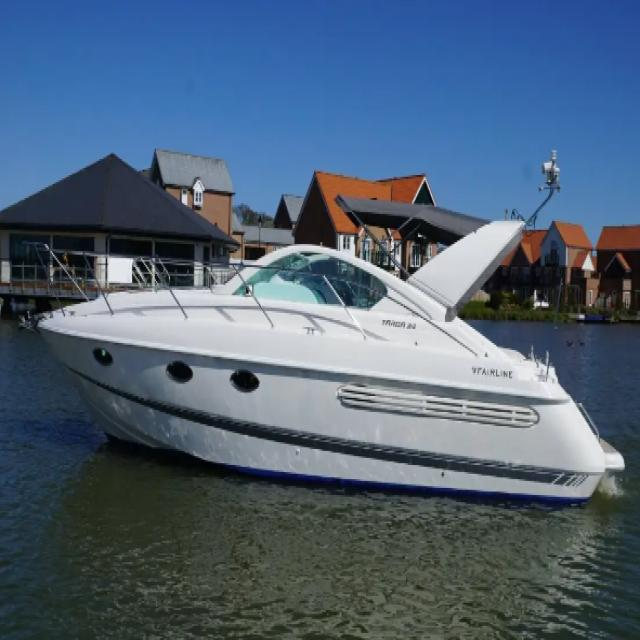houseboat: (33, 188, 625, 510)
